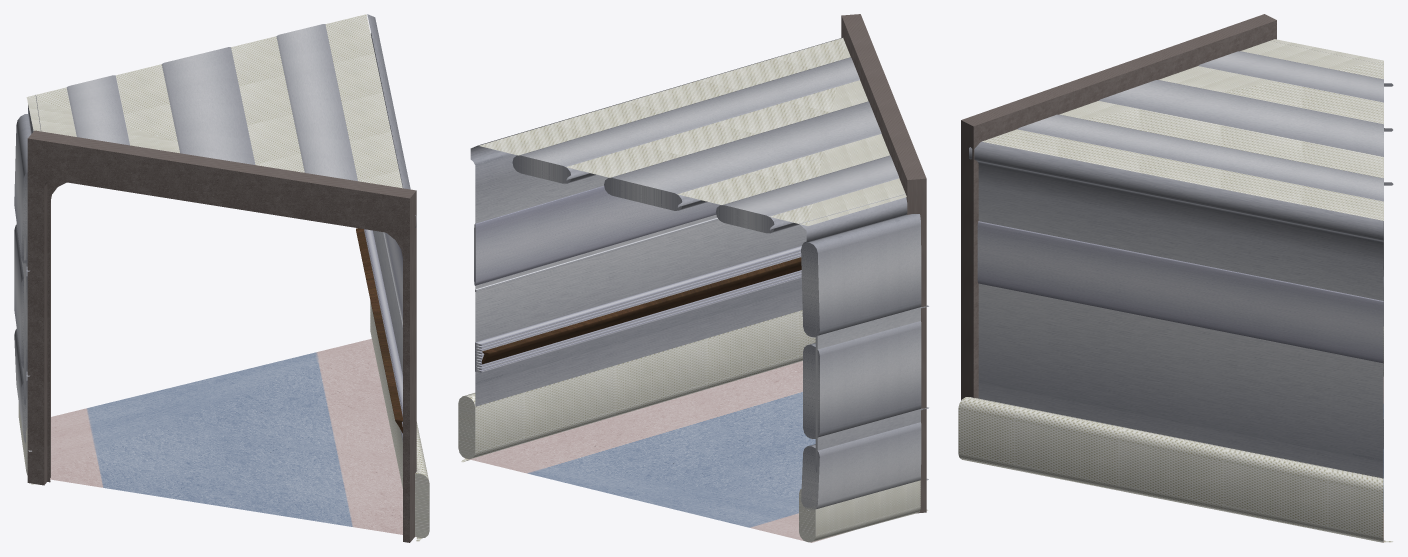
Rendered from GalaxyCorridorRightTurnSharp.fbx.
3 views of the same model, side by side, from view 1: azimuth 30°, elevation 25°; view 2: azimuth 150°, elevation 25°; view 3: azimuth 270°, elevation 25° (orthographic). The views are drawn at different scales.
Visible parts, largest first — view 1: Plane44, Plane44.002; view 2: Plane44, Plane44.002; view 3: Plane44.
Boxes of the visible parts, x1,y1,x2,y2 form: Plane44: (14,14,429,542); Plane44.002: (50,338,415,536); Plane44: (458,14,928,542); Plane44.002: (465,361,849,542); Plane44: (958,14,1393,542).
Bounding box in the file's own units: 328 × 256 × 303.
